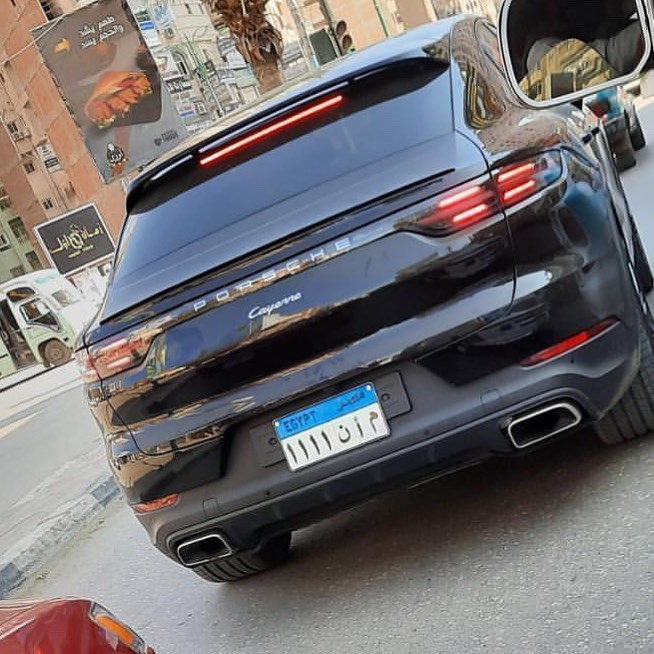carpl: (271, 382, 388, 466)
